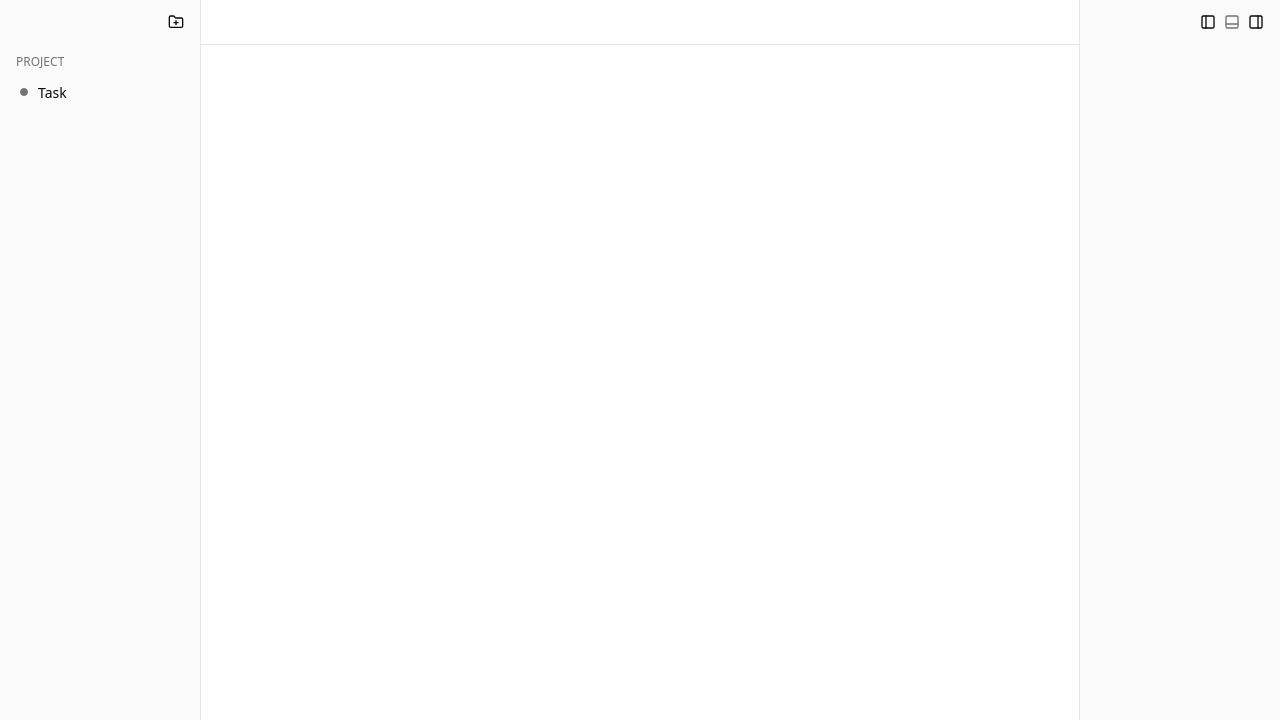
Scenario: Transcript Markdown › renders blocks and GitHub's extensions, with code kept literal
Click the button with class "select" at (100, 92), box [8,76,192,108]
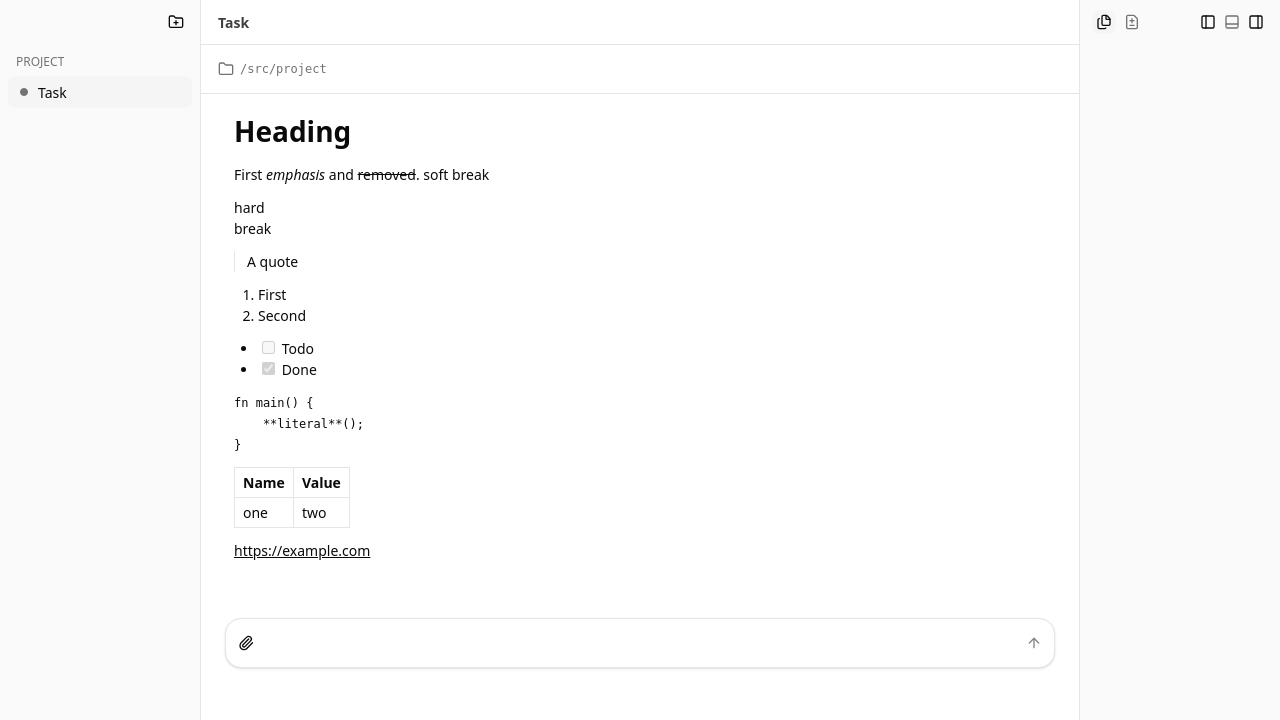
Check: the heading "Heading" is shown, box [234,112,351,150]
Check: the text "emphasis" is shown, box [266,165,325,184]
Check: the text "removed" is shown, box [358,165,416,184]
